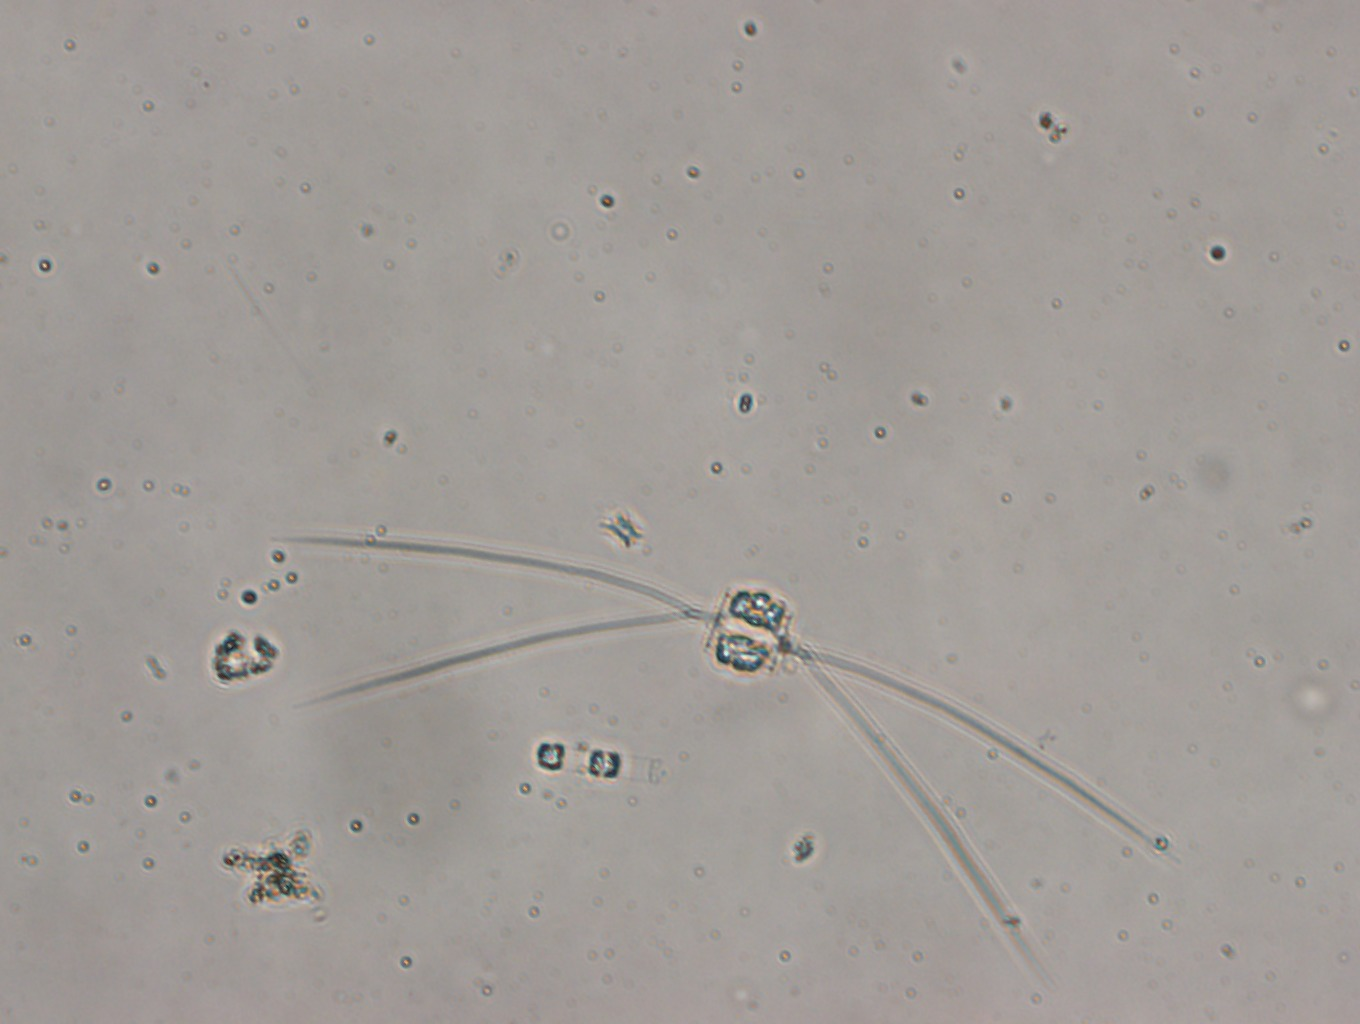chaetoceros: (277, 532, 1177, 985)
